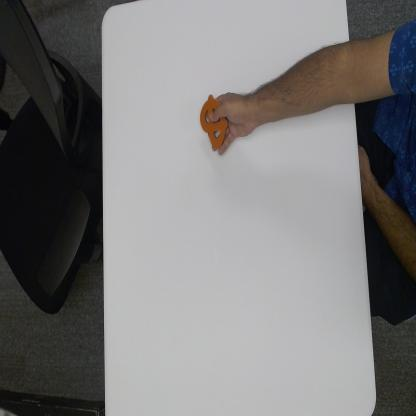Arm: (254, 36, 355, 132)
Hand: (211, 90, 254, 156)
Pretzel: (199, 92, 229, 151)
